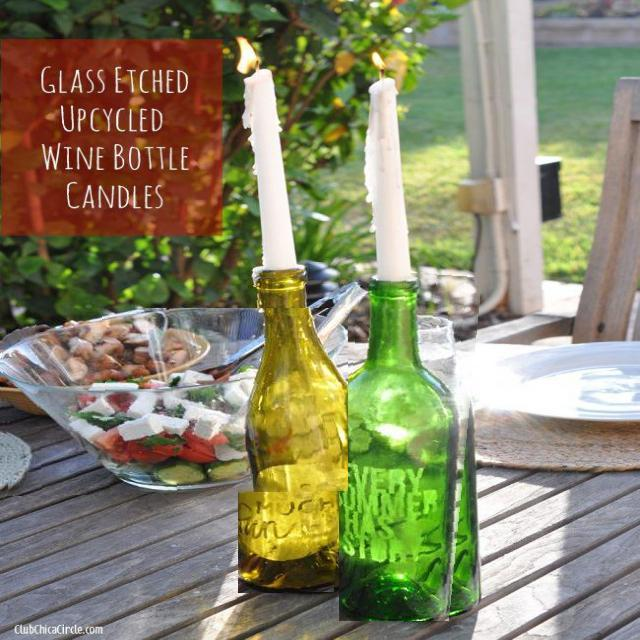Glass: (0, 308, 348, 496), (339, 268, 482, 621), (238, 262, 356, 593)
